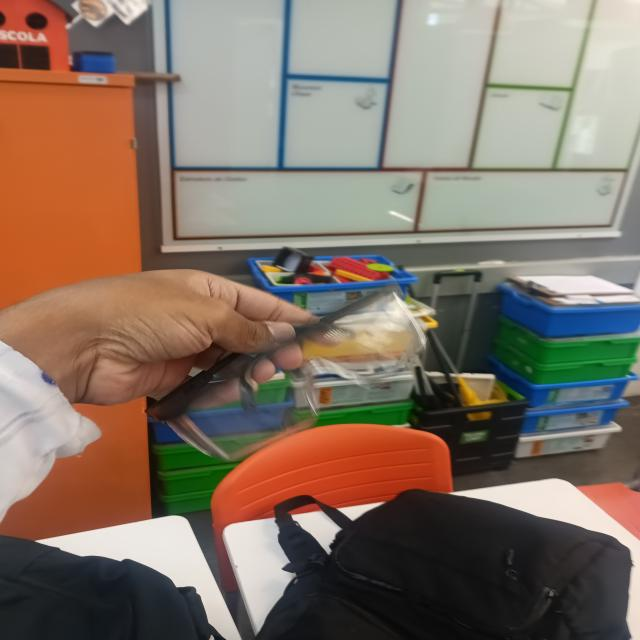oculos-epi: (150, 284, 433, 459)
